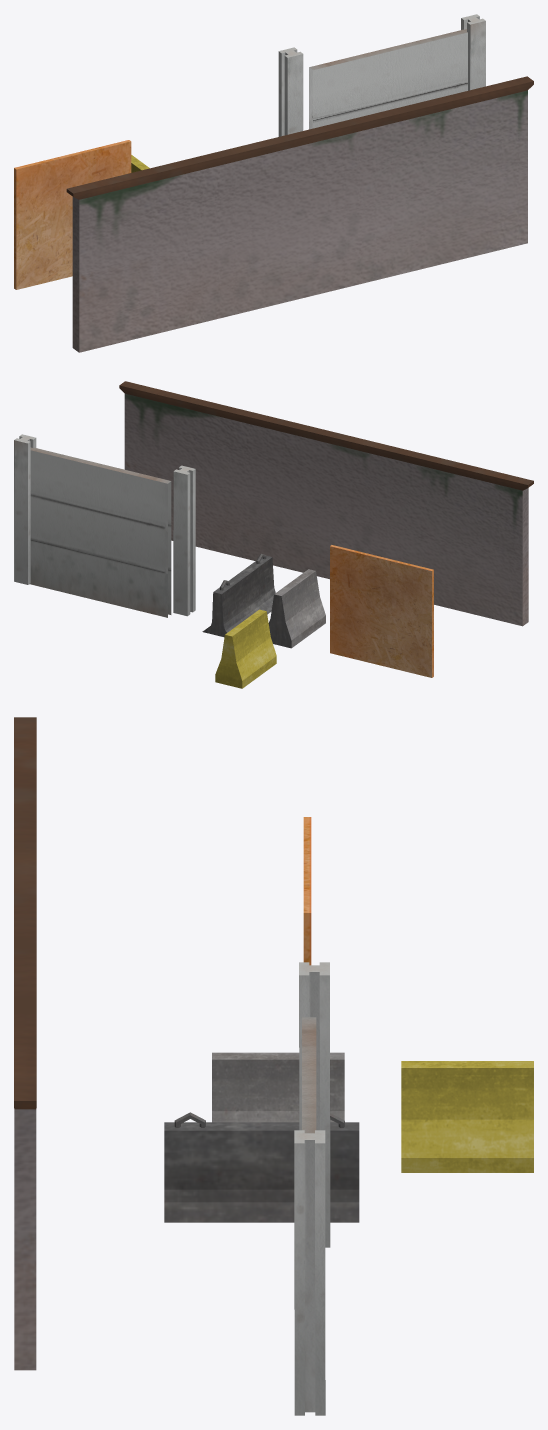
File: murros_barreiras_mod.fbx
3 views of the same model, one above another, from view 1: azimuth 30°, elevation 25°; view 2: azimuth 150°, elevation 25°; view 3: azimuth 270°, elevation 25° (orthographic). The views are drawn at different scales.
Parts seen in each view (by area): view 1: Cube.003, Cube.000, Cube.006, Cube.001; view 2: Cube.003, Cube.000, Cube.006, Cube.001, Cube.005, Cube.002, Cube.004; view 3: Cube.005, Cube.003, Cube.002, Cube.000, Cube.004, Cube.001, Cube.006.
Part boxes in pixels (box(x1,y1,x2,y2)): Cube.003: box(66, 76, 533, 352); Cube.000: box(309, 14, 485, 129); Cube.006: box(14, 140, 131, 289); Cube.001: box(278, 47, 303, 136); Cube.003: box(119, 381, 533, 626); Cube.000: box(14, 434, 171, 617); Cube.006: box(330, 545, 433, 677); Cube.001: box(173, 465, 195, 616); Cube.005: box(202, 553, 275, 637); Cube.002: box(215, 609, 276, 688); Cube.004: box(268, 569, 325, 648); Cube.005: box(164, 1112, 359, 1222); Cube.003: box(14, 717, 36, 1370); Cube.002: box(401, 1061, 533, 1172); Cube.000: box(294, 1017, 325, 1415); Cube.004: box(212, 1052, 344, 1122); Cube.001: box(299, 962, 330, 1247); Cube.006: box(303, 817, 311, 965).
Bounding box in the file's own units: 645 × 212 × 344.
